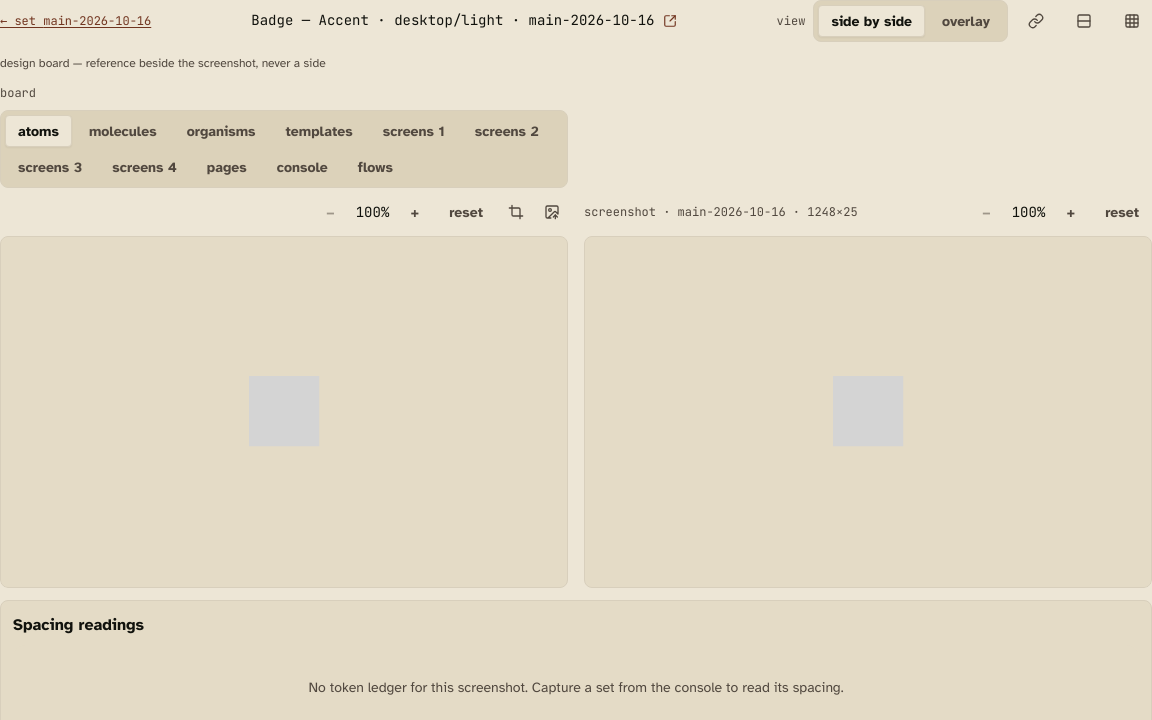
Scenario: the shot view’s overlay › asks for a crop rather than laying a whole board on a shot
Click the button "overlay": (966,21) x1=929 y1=5 x2=1003 y2=37
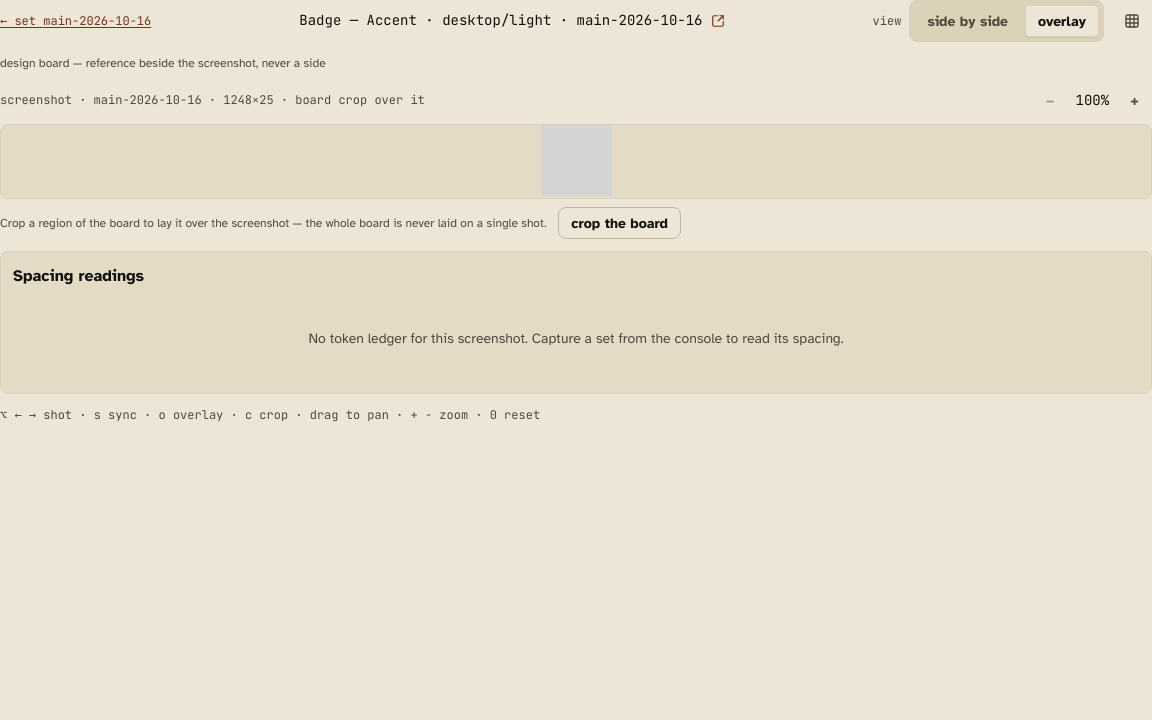
Result: the text "Crop a region of the board" is shown at x1=0 y1=216 x2=546 y2=230
